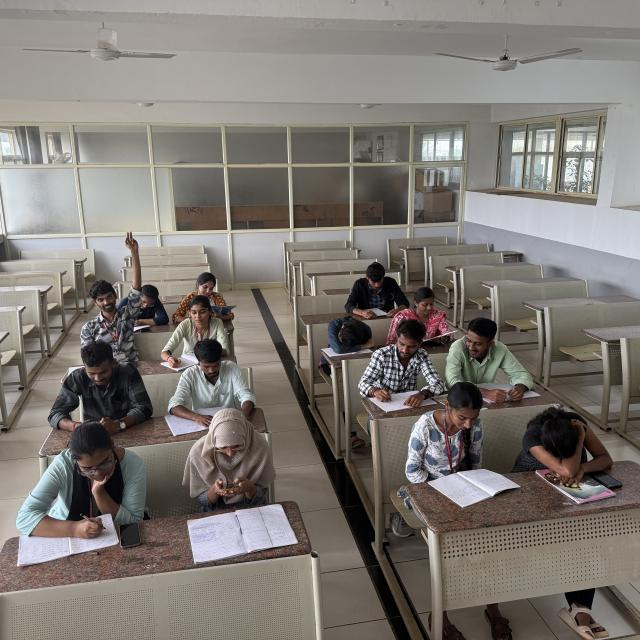Hand Rising: (78, 229, 142, 356)
Reading: (412, 383, 498, 493), (180, 341, 256, 427), (389, 284, 457, 343), (344, 262, 410, 316), (172, 273, 238, 324), (120, 283, 169, 327)
Sleeping: (523, 402, 613, 472), (325, 315, 381, 356)
Using Phone: (45, 339, 151, 432), (182, 406, 271, 511)
Writing: (14, 424, 119, 550), (356, 316, 442, 406), (162, 302, 231, 368)
